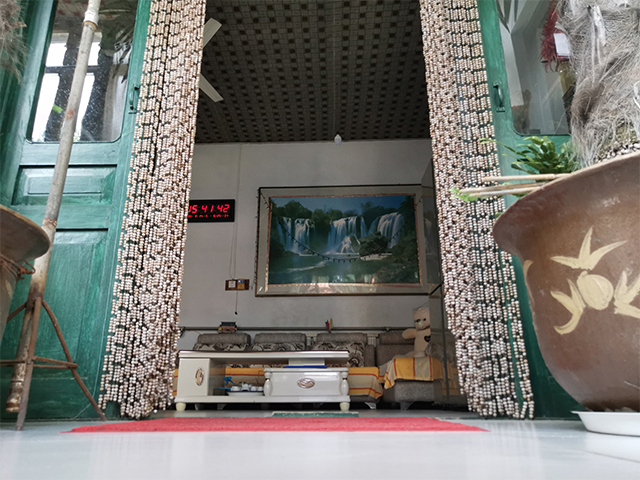cabinet: (173, 348, 351, 413)
carpet: (56, 415, 491, 435)
sofa: (313, 327, 434, 412)
